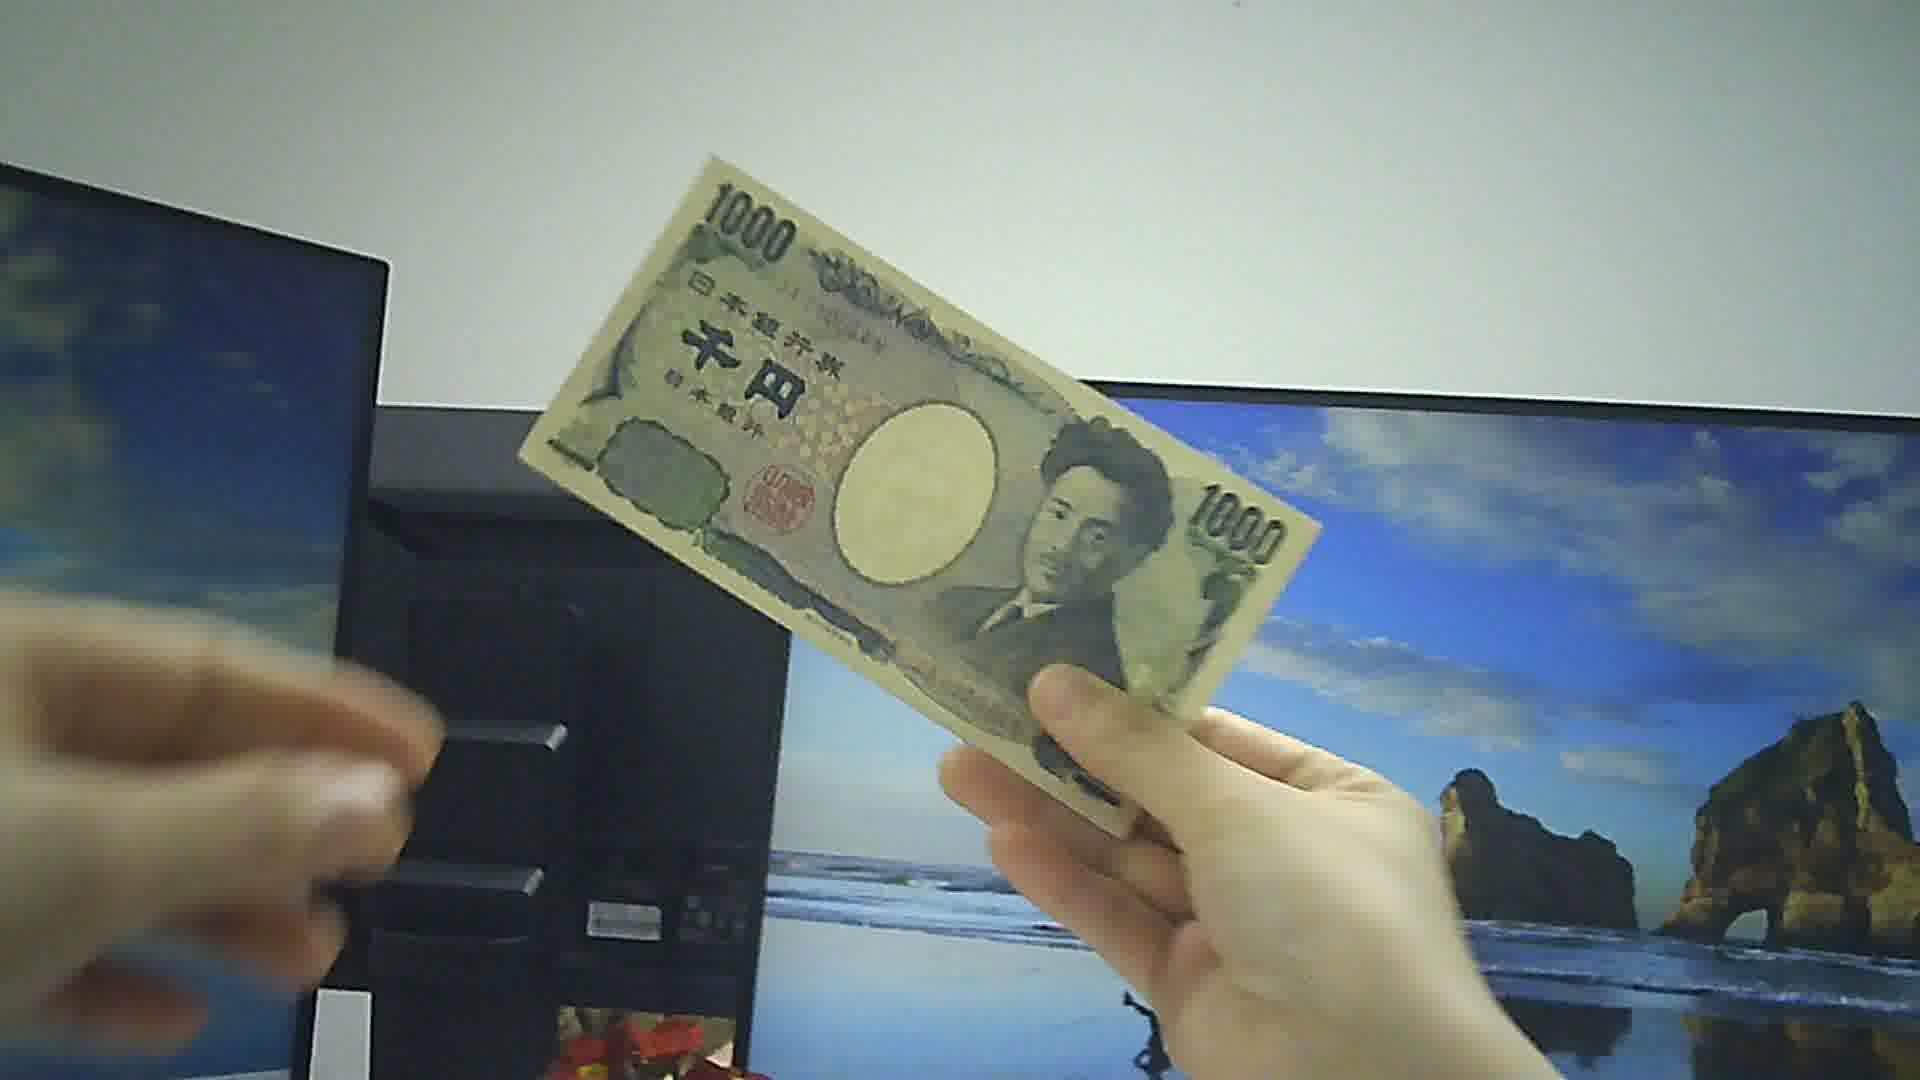1,000 Yen: (520, 160, 1327, 825)
